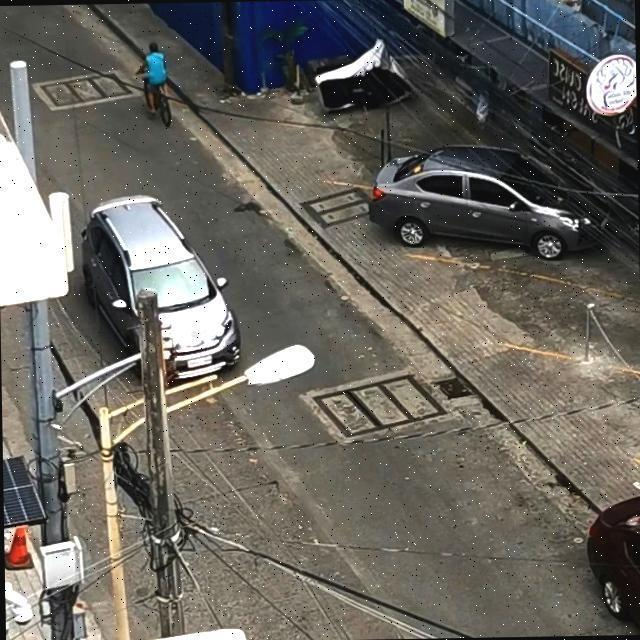Bike: (132, 36, 172, 116)
